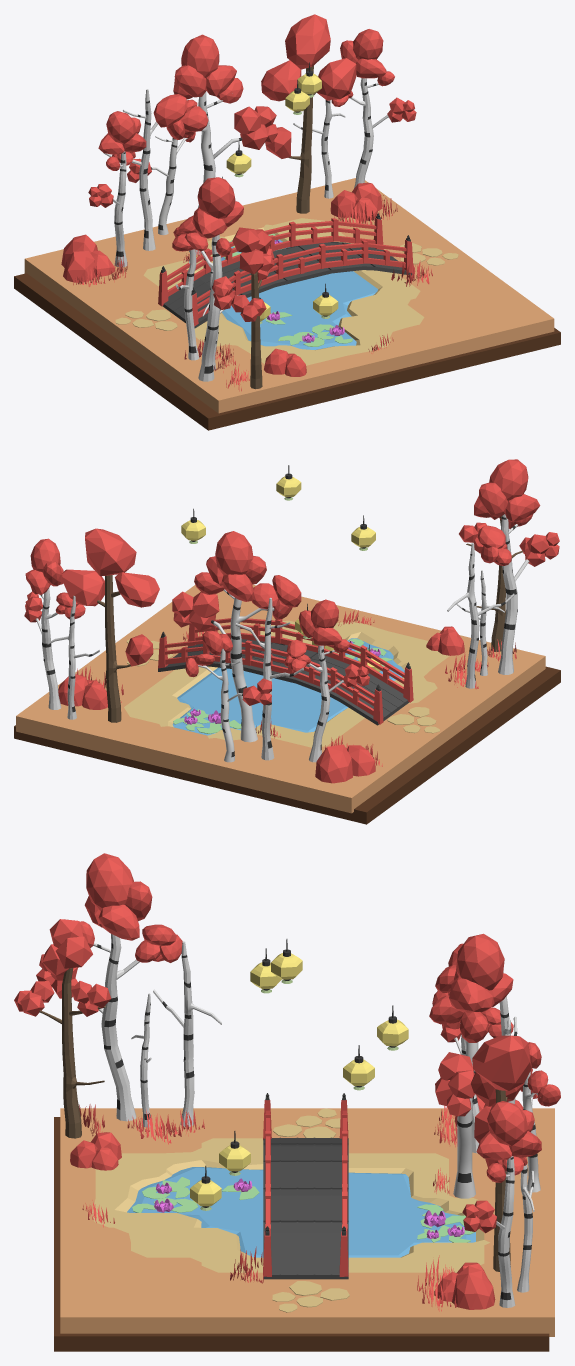
File: thebridge2.glb
3 renders of one model, top to bottom at view 1: azimuth 30°, elevation 25°; view 2: azimuth 150°, elevation 25°; view 3: azimuth 270°, elevation 25°, orthographic. The views are drawn at different scales.
Visible parts, largest first — view 1: Cube.001, Cube.005, Icosphere.016, Circle, Plane.003, Cylinder.005, Cylinder.003, Cylinder.001, Icosphere.010, Icosphere.017, Cylinder.006, Icosphere.018 (+4 smaller); view 2: Cube.001, Cube.005, Icosphere.016, Circle, Cylinder.005, Plane.003, Cylinder.001, Cylinder.003, Icosphere.001, Icosphere.017, Icosphere.010, Cylinder.006 (+8 smaller); view 3: Cube.001, Cube.005, Plane.003, Icosphere.016, Cylinder.005, Icosphere.010, Cylinder.003, Circle, Cylinder.004, Icosphere.018, Icosphere.001, Icosphere.002 (+10 smaller).
Boxes of the visible parts, x1,y1,x2,y2 form: Cube.001: (14,178,560,430); Cube.005: (158,213,412,328); Icosphere.016: (153,34,277,254); Circle: (261,14,356,213); Plane.003: (221,239,377,349); Cylinder.005: (172,177,243,381); Cylinder.003: (326,29,416,188); Cylinder.001: (88,111,146,267); Icosphere.010: (231,227,274,389); Icosphere.017: (61,234,114,282); Cylinder.006: (103,89,157,250); Icosphere.018: (330,182,382,220); Cube.001: (14,584,560,824); Cube.005: (158,618,413,725); Icosphere.016: (172,531,301,742); Circle: (62,528,159,722); Cylinder.005: (474,459,559,674); Plane.003: (172,638,404,735); Cylinder.001: (284,599,369,762); Cylinder.003: (24,538,85,709); Icosphere.001: (185,630,271,762); Icosphere.017: (315,744,375,783); Icosphere.010: (459,493,545,651); Cylinder.006: (235,597,303,760); Cube.001: (54,1108,554,1351); Cube.005: (263,1093,348,1279); Plane.003: (127,1167,475,1257); Icosphere.016: (429,933,513,1198); Cylinder.005: (36,853,182,1121); Icosphere.010: (14,919,111,1138); Cylinder.003: (462,1101,541,1307); Circle: (470,1035,531,1271); Cylinder.004: (153,941,221,1126); Icosphere.018: (434,1262,495,1309); Icosphere.001: (520,1042,560,1192); Icosphere.002: (70,1132,121,1170).
Size of the model in its own units: 11.36 by 7.01 by 11.37.
